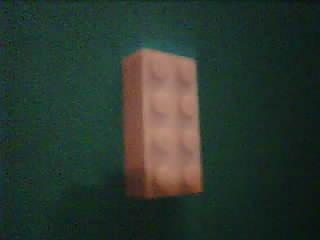lego: (119, 48, 201, 199)
